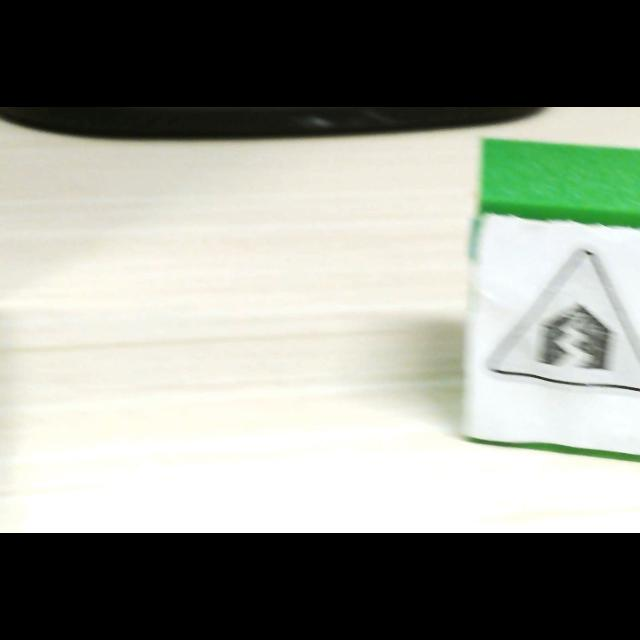Earthquake: (486, 248, 640, 393), (487, 302, 623, 390)
